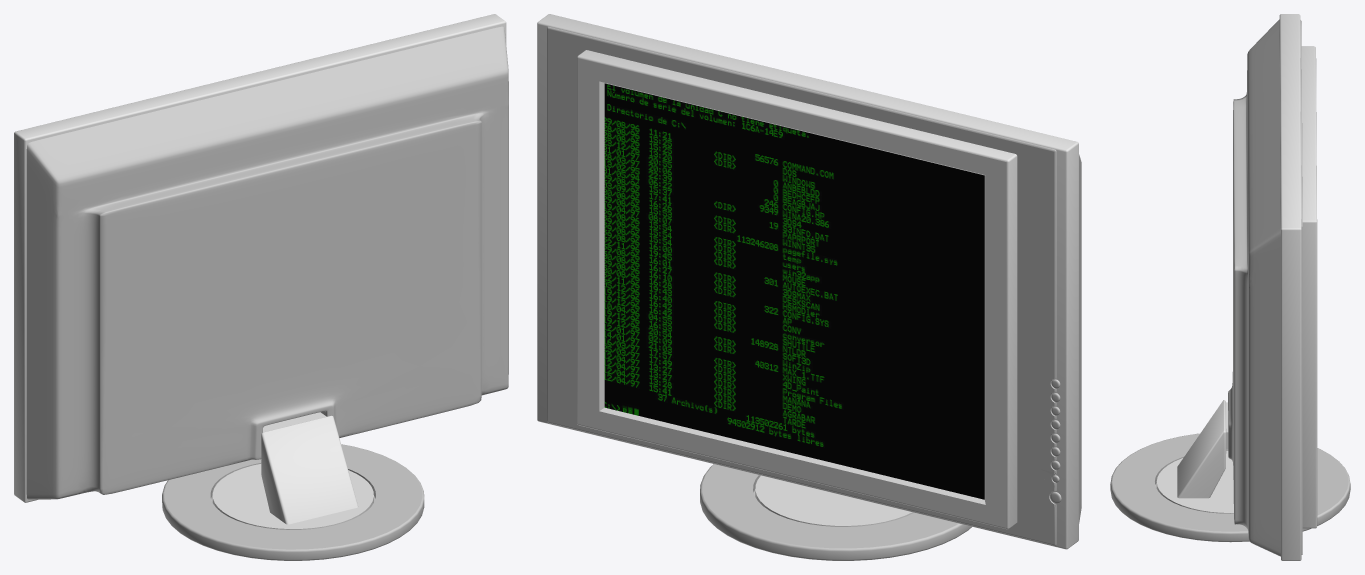
File: PC_Monitor.fbx
3 views of the same model, side by side, from view 1: azimuth 30°, elevation 25°; view 2: azimuth 150°, elevation 25°; view 3: azimuth 270°, elevation 25° (orthographic). The views are drawn at different scales.
Parts seen in each view (by area): view 1: PC_Monitor; view 2: PC_Monitor; view 3: PC_Monitor.
Part boxes in pixels (x1,y1,x2,y2): PC_Monitor: (14,14,508,560); PC_Monitor: (537,14,1081,560); PC_Monitor: (1110,14,1350,560).
Bounding box in the file's own units: 52.08 × 41.83 × 24.53.
